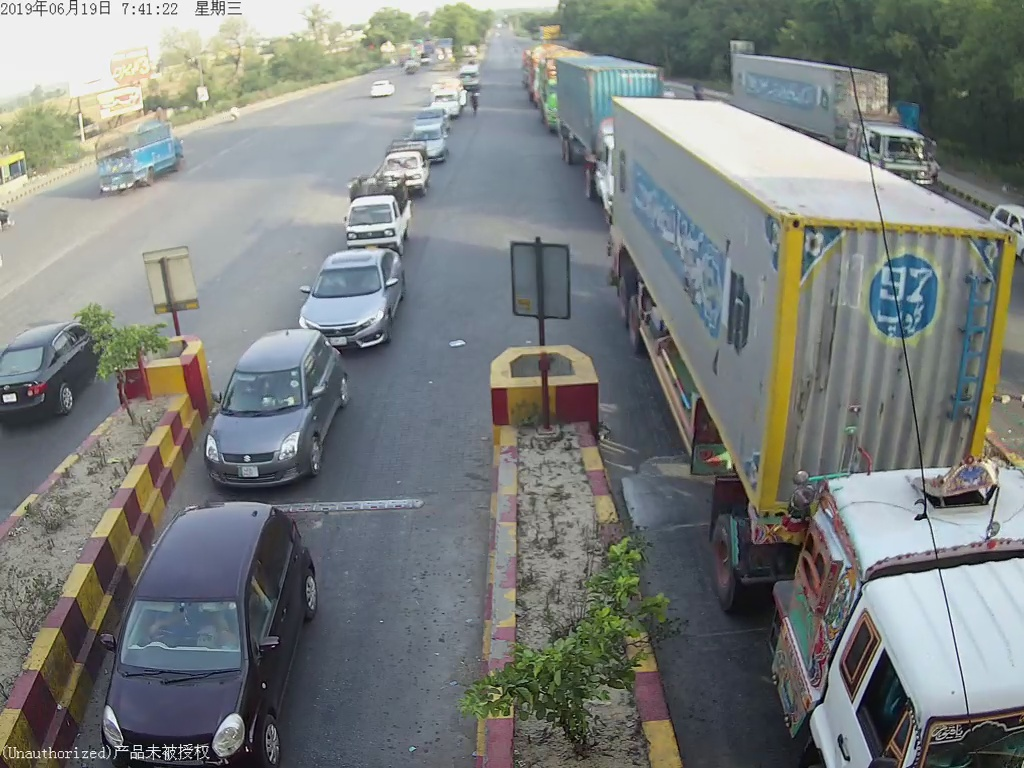Cat-1: (99, 505, 321, 746), (202, 336, 360, 493), (292, 251, 409, 331)
Cat-5: (611, 100, 1023, 768)
